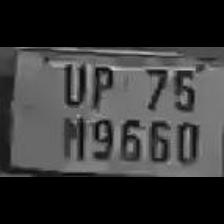0: (172, 118, 201, 164)
5: (169, 66, 197, 111)
6: (114, 115, 144, 163), (144, 116, 172, 164)
7: (140, 65, 168, 111)
9: (86, 113, 114, 161)
M: (56, 112, 86, 160)
P: (86, 61, 116, 109)
U: (56, 60, 86, 108)
